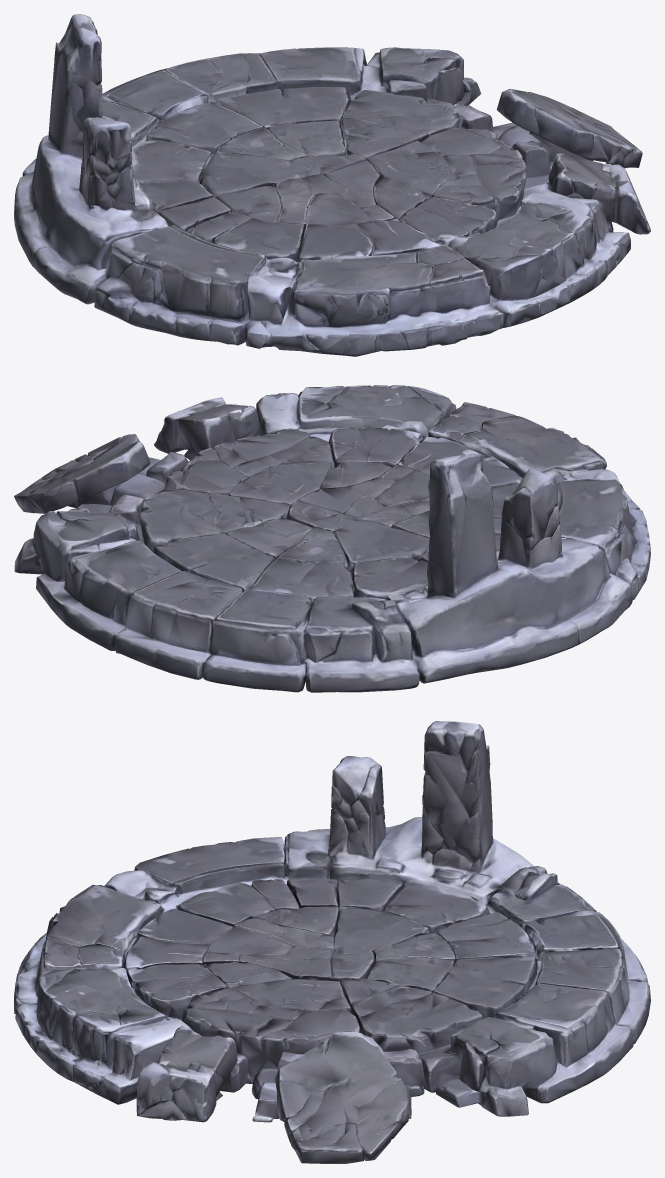
The model's file is plataforma.glb.
3 views of the same model, one above another, from view 1: azimuth 30°, elevation 25°; view 2: azimuth 150°, elevation 25°; view 3: azimuth 270°, elevation 25° (orthographic).
Bounding box in the file's own units: 0.9793 × 0.3329 × 0.9309.
1 material, 1 textured.
